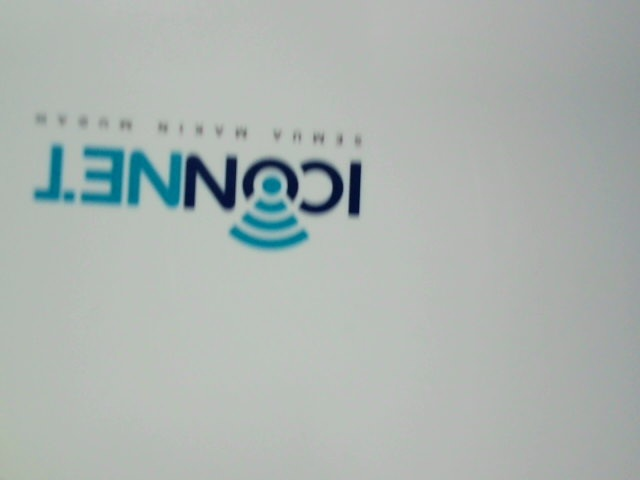BM_ICONNET: (25, 100, 379, 260)
